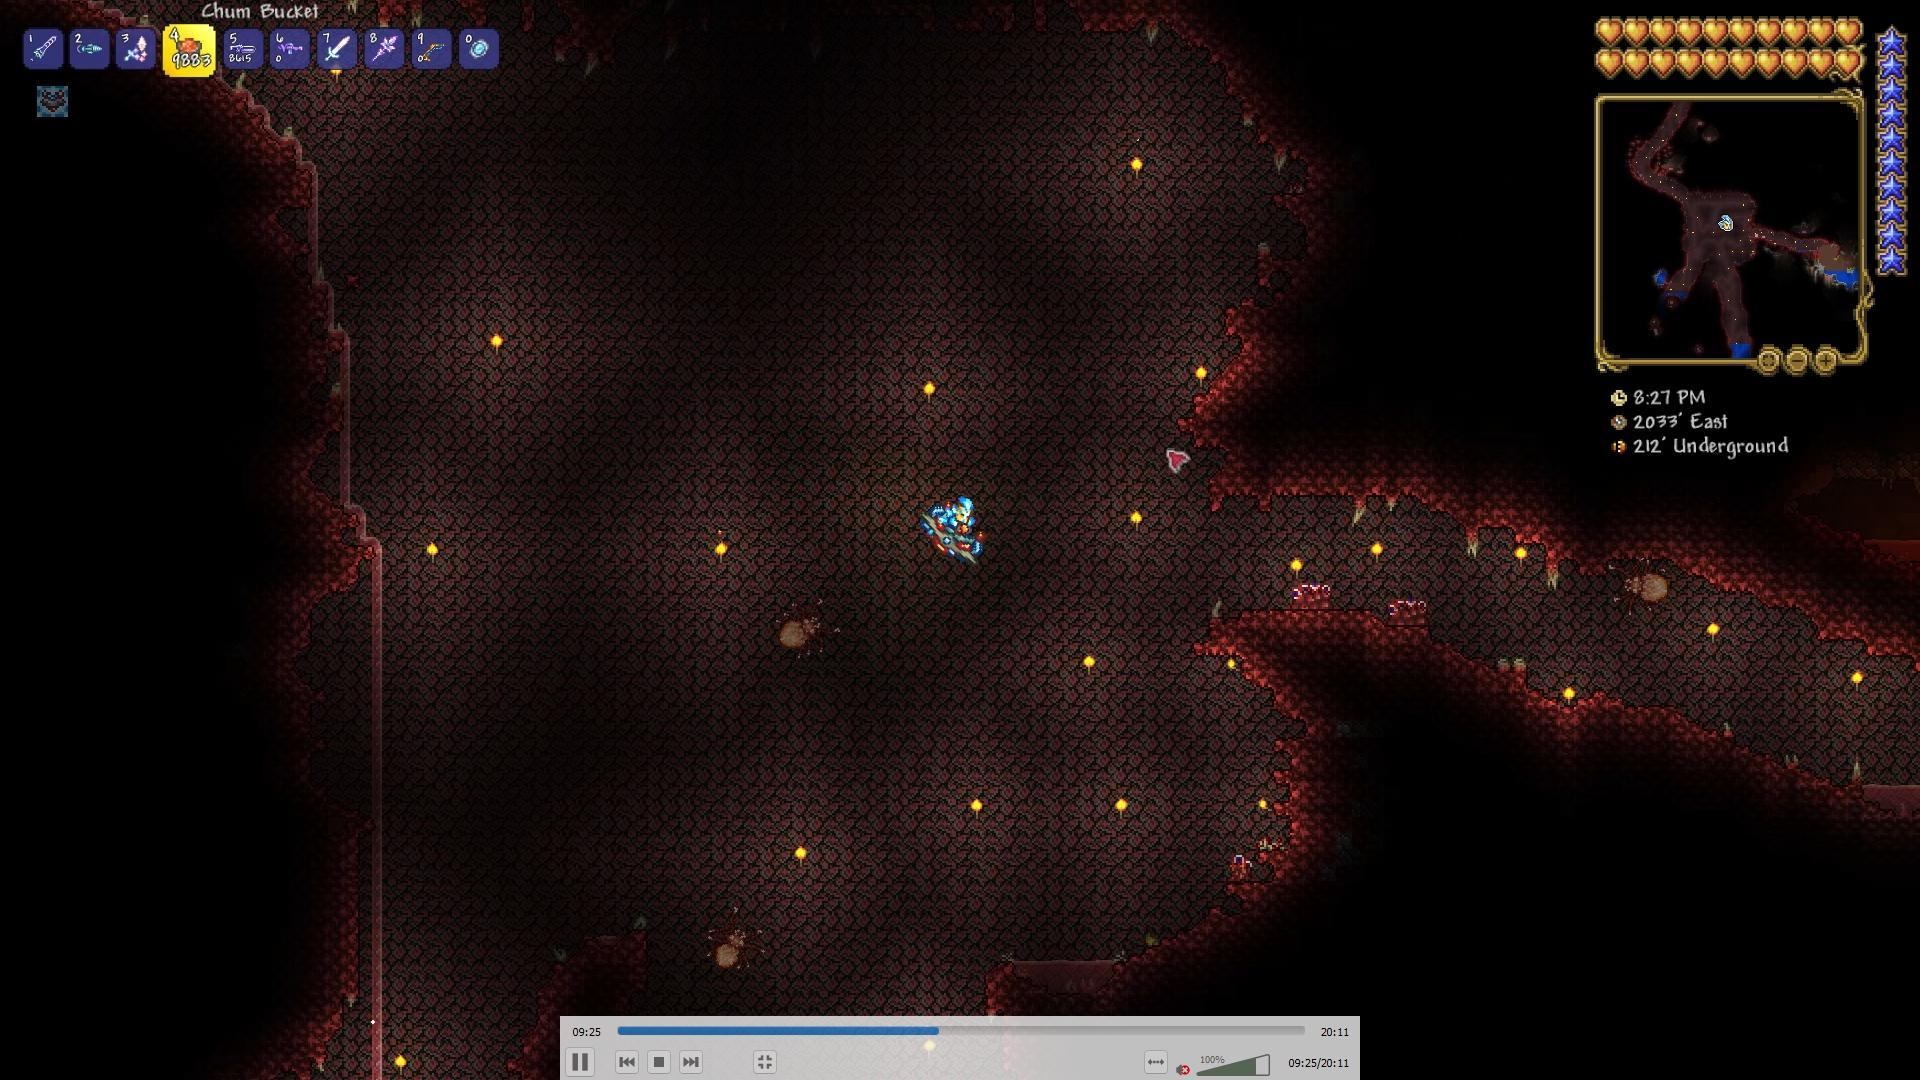altar: (1385, 596, 1431, 630), (1292, 582, 1337, 613)
mirror: (451, 33, 477, 62)
spider: (698, 898, 769, 981), (1606, 556, 1675, 622), (774, 591, 832, 662)
